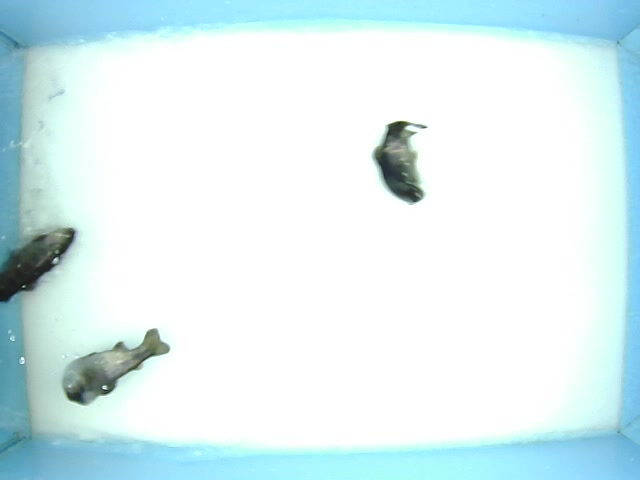fish: (41, 324, 186, 418), (328, 111, 443, 213)
